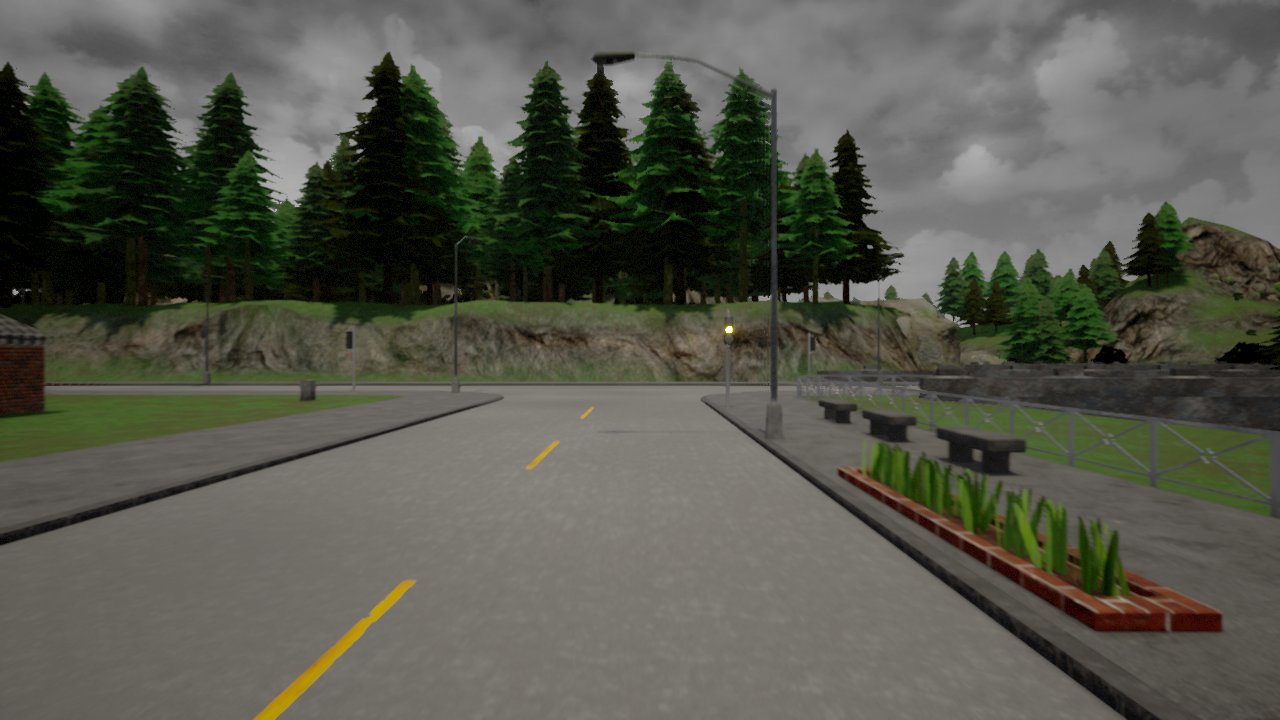yellow: (723, 315, 735, 345)
